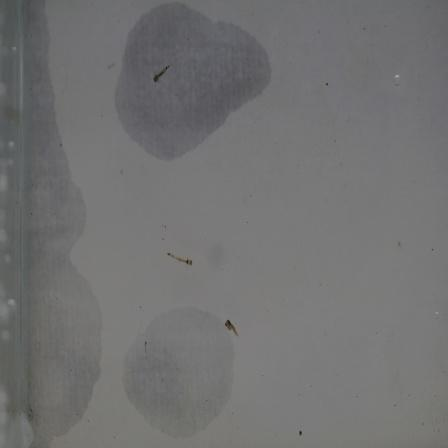Jentik-Nyamuk: (163, 246, 198, 269), (152, 60, 175, 87), (223, 316, 245, 343)
